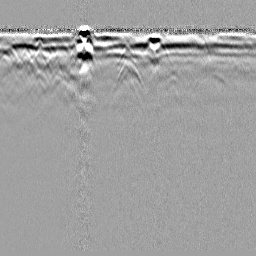cavity: (110, 59, 146, 95)
